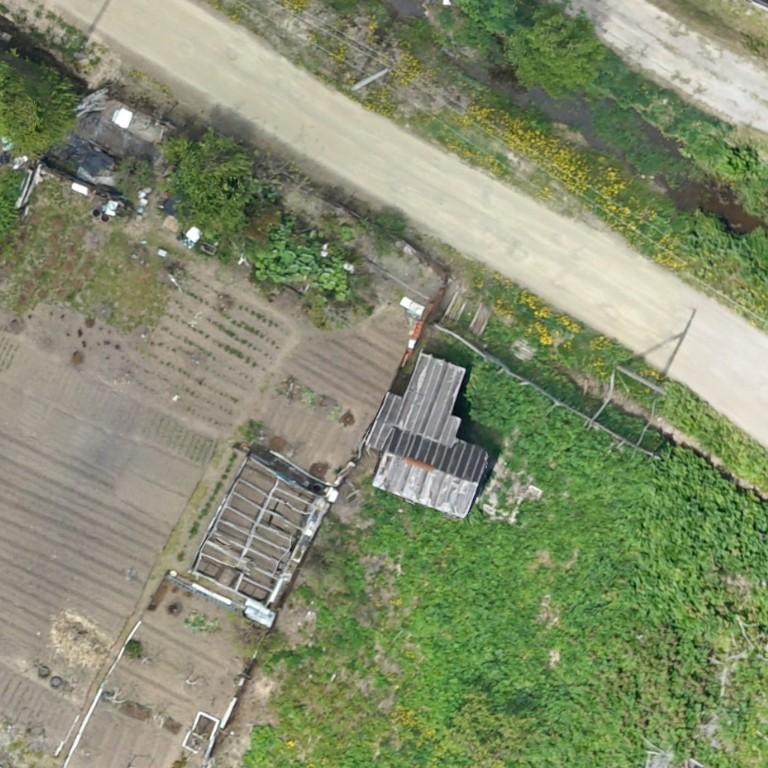hogweed: (474, 378, 767, 767)
